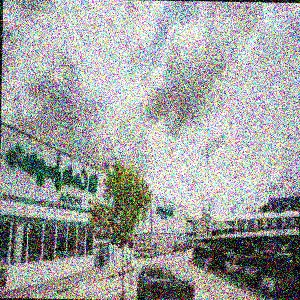corte_ingles: (106, 111, 112, 240)
